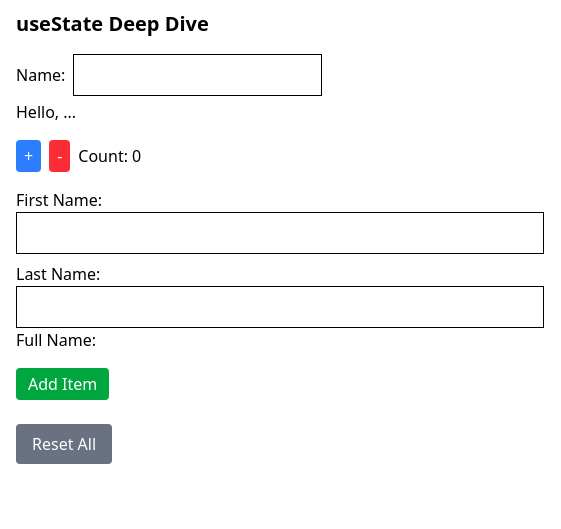
Test case: UseStateAdvanced › adds items to list
This screenshot has width=561, height=529.
Click the button "Add Item".
click(63, 384)  # box [16, 368, 109, 400]
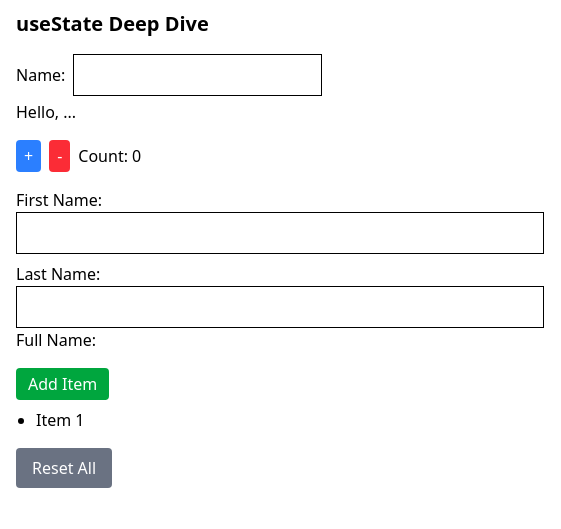
Click the button "Add Item".
click(63, 384)  # box [16, 368, 109, 400]
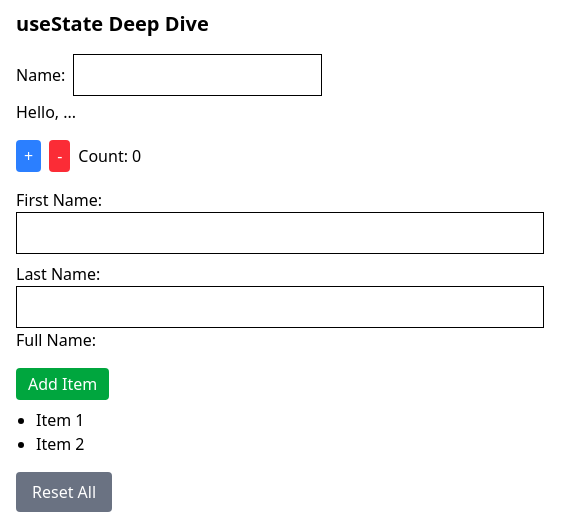
expect the list item "Item 1" is shown: met, box [36, 409, 84, 431]
expect the list item "Item 2" is shown: met, box [36, 433, 84, 455]
